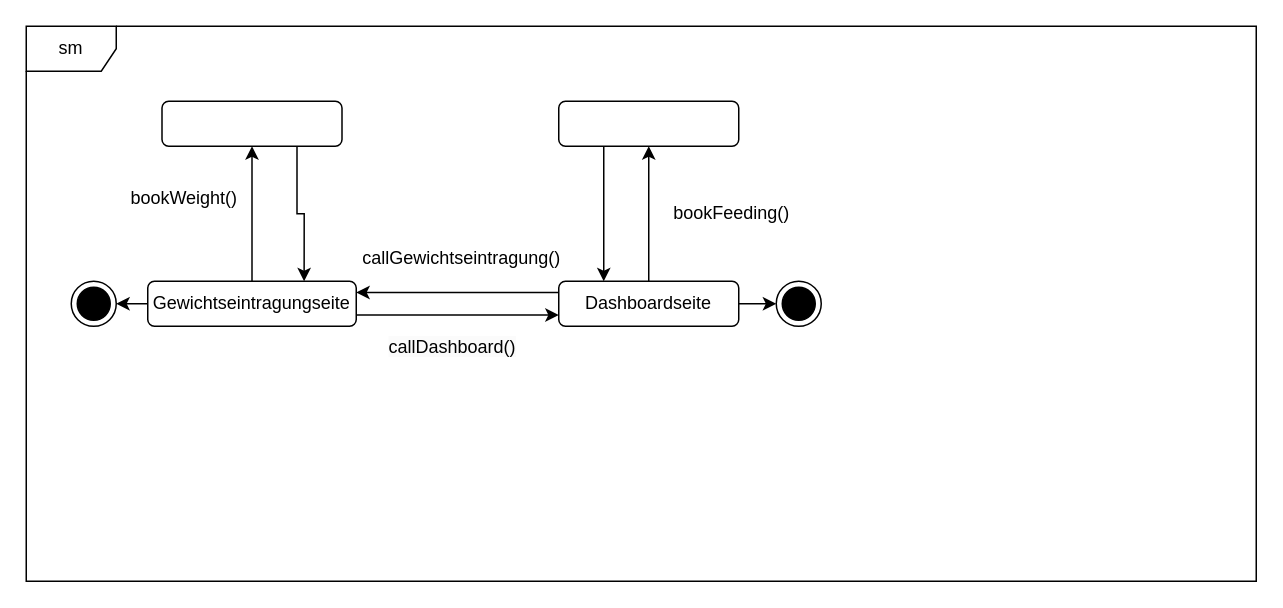
Some shapes in this 1283 by 608 pixel diagram are drawn without their labels. Each missing label, with the centre of its shape:
Fütterung gebucht: (x=648, y=123)
Gewicht eingetragen: (x=251, y=123)
